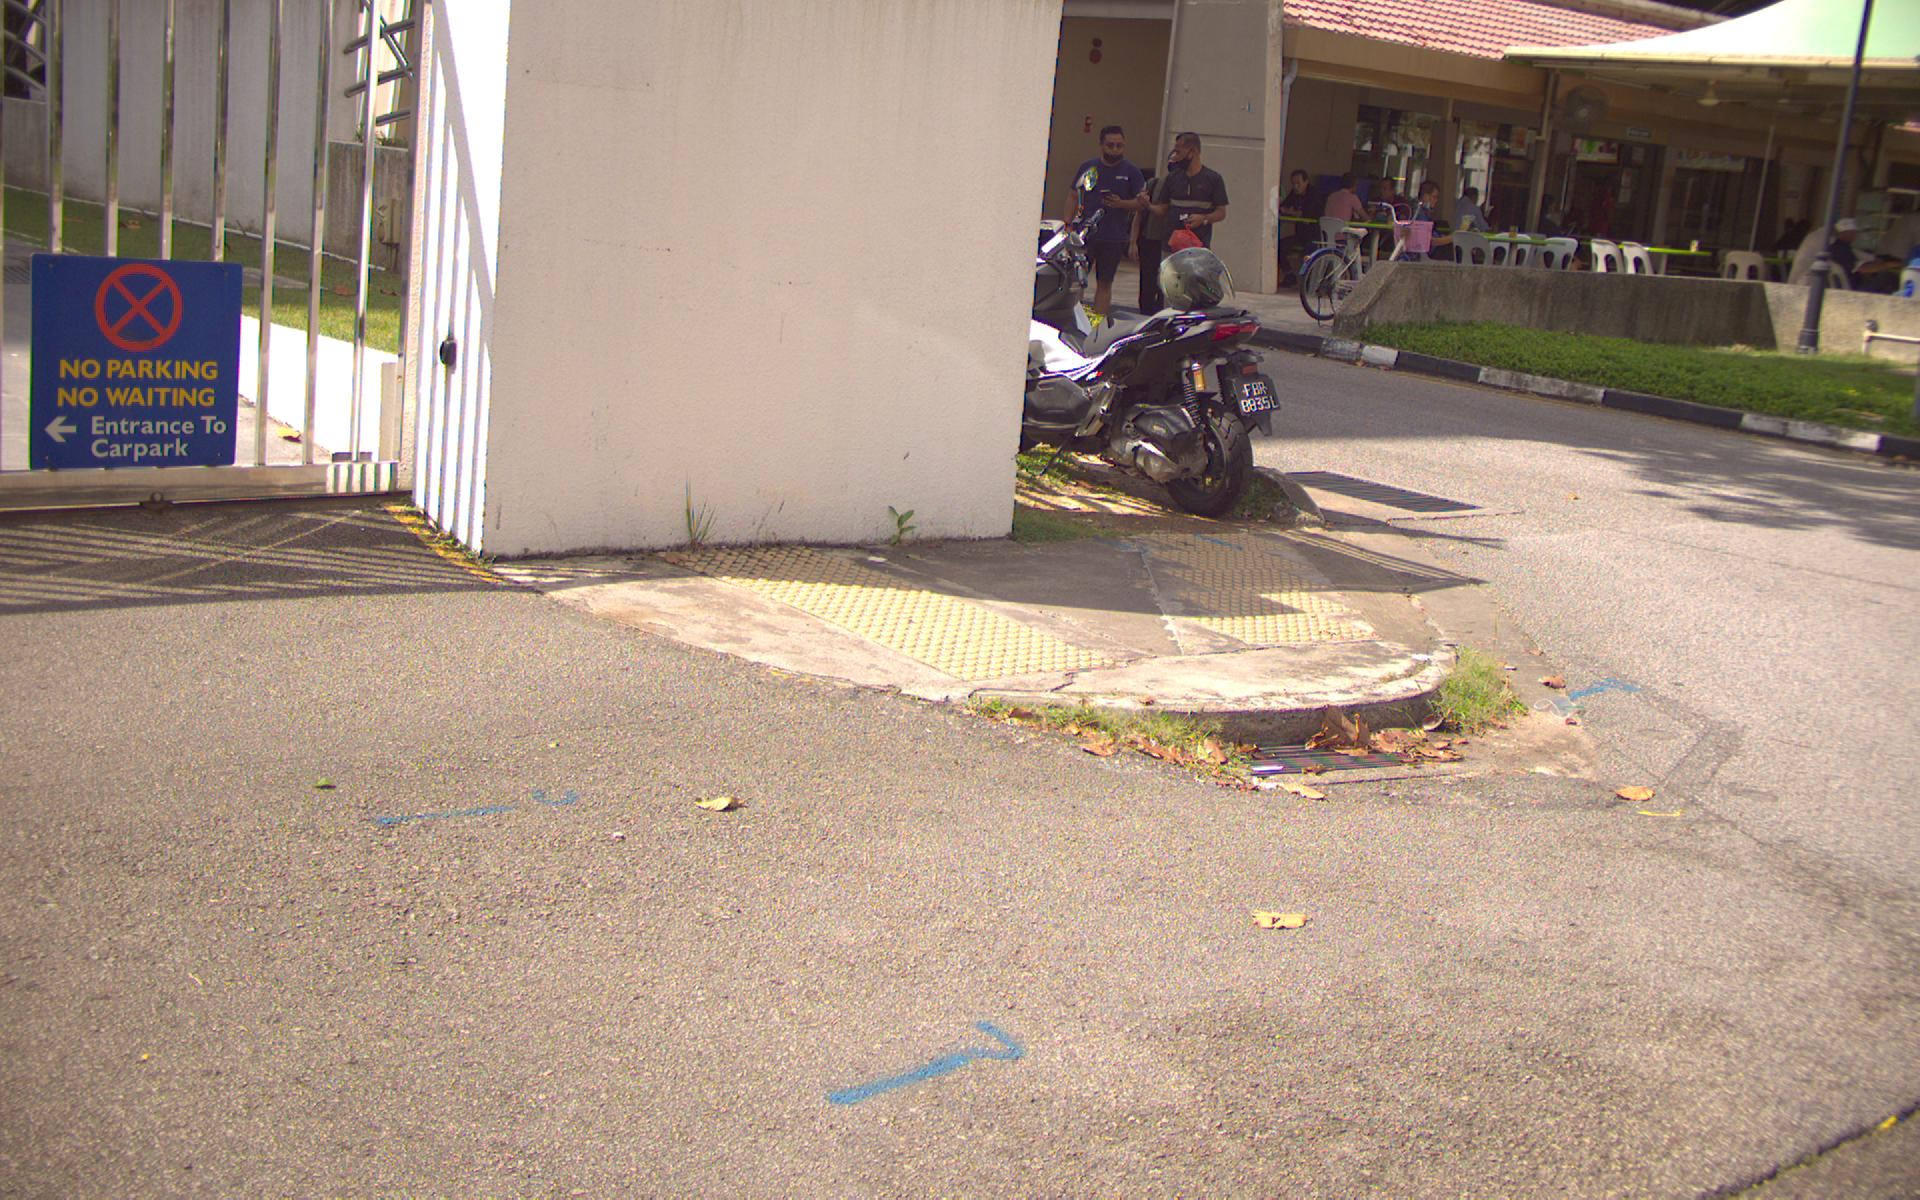road_curb_low: (990, 641, 1608, 806)
